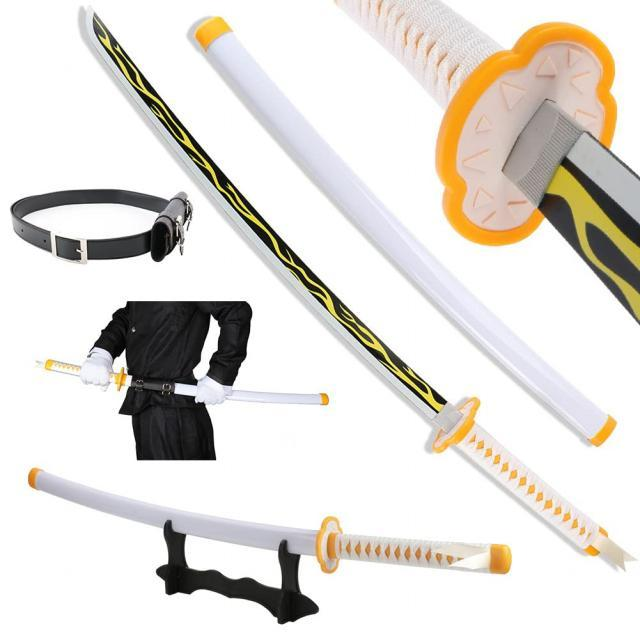katana: (82, 9, 615, 577), (28, 466, 515, 575)
scabbard: (193, 14, 618, 450)
